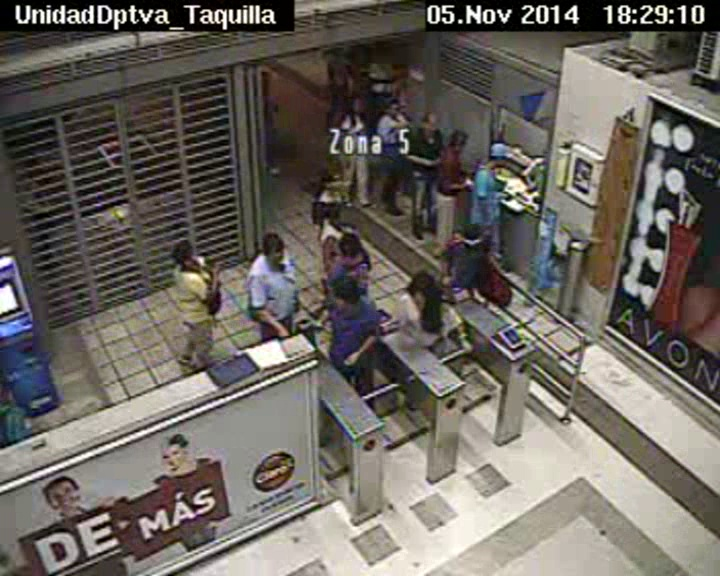person: (258, 230, 288, 263), (329, 277, 359, 309), (408, 270, 437, 303), (334, 231, 364, 261), (170, 238, 199, 269), (462, 220, 489, 248), (320, 171, 344, 199), (488, 140, 510, 168), (446, 128, 468, 153), (419, 110, 441, 133), (384, 97, 403, 119), (257, 71, 273, 93), (346, 95, 364, 114), (350, 46, 365, 64), (328, 46, 342, 64), (373, 52, 387, 67), (391, 49, 405, 62)
